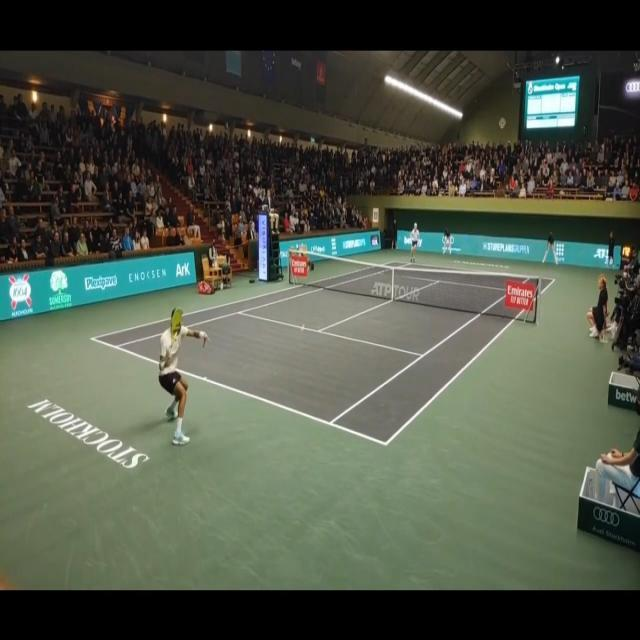court: (95, 260, 562, 448)
net: (288, 247, 542, 332)
player: (158, 306, 211, 446)
